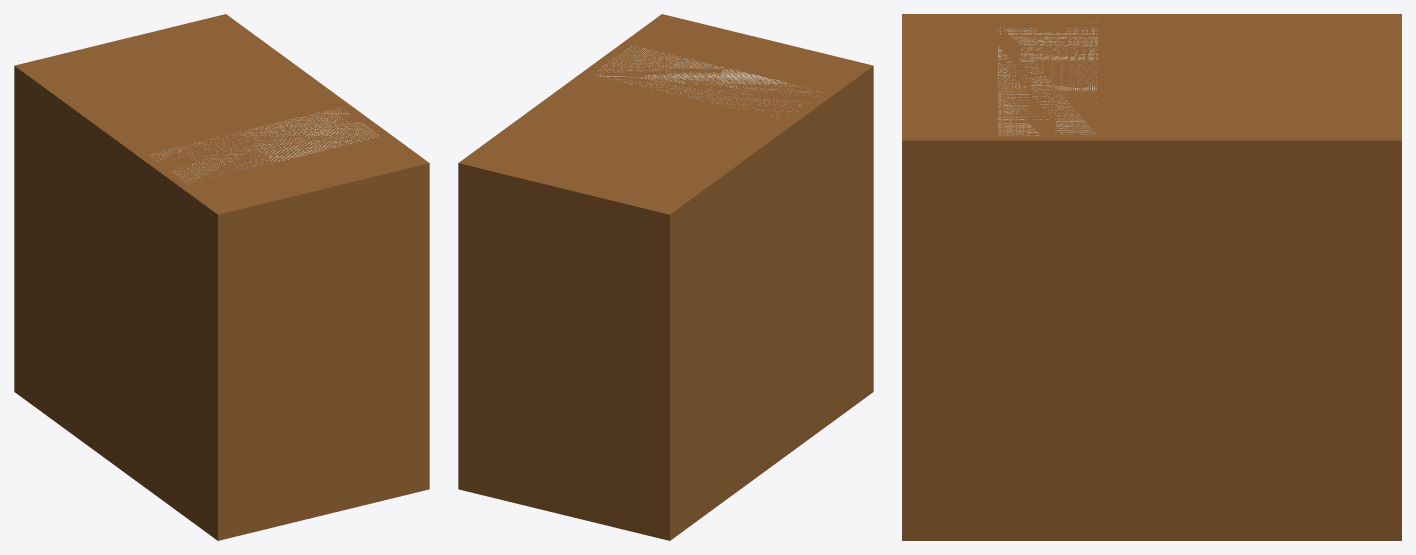
3 views of the same model, side by side, from view 1: azimuth 30°, elevation 25°; view 2: azimuth 150°, elevation 25°; view 3: azimuth 270°, elevation 25° (orthographic). The views are drawn at different scales.
Parts seen in each view (by area): view 1: filing cabinet; view 2: filing cabinet; view 3: filing cabinet.
Boxes of the visible parts, left/top/right/bottom form: filing cabinet: left=14, top=14, right=429, bottom=540; filing cabinet: left=458, top=14, right=873, bottom=540; filing cabinet: left=902, top=14, right=1401, bottom=540.
Bounding box in the file's own units: 18 × 28.34 × 30.
